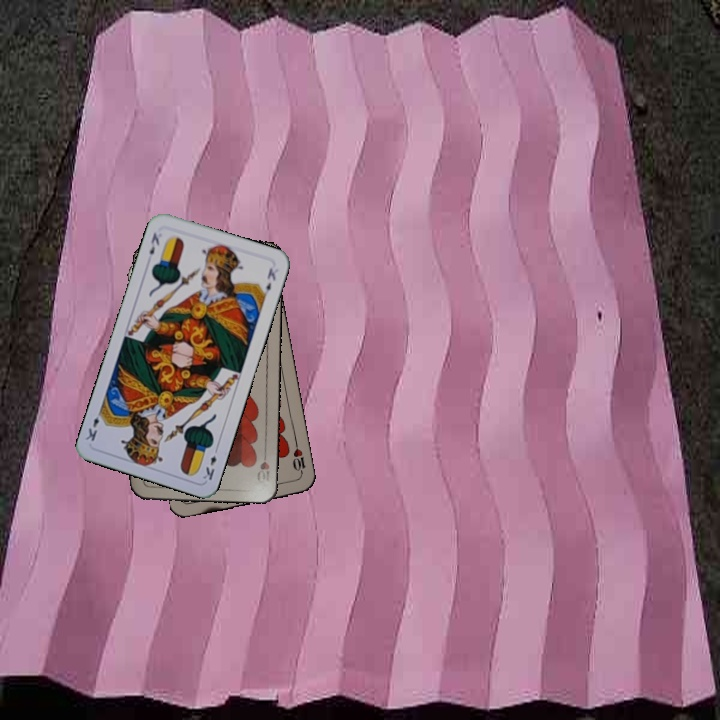EK: (199, 443, 221, 483), (145, 228, 162, 257)
H10: (289, 438, 308, 479), (253, 446, 272, 486)
